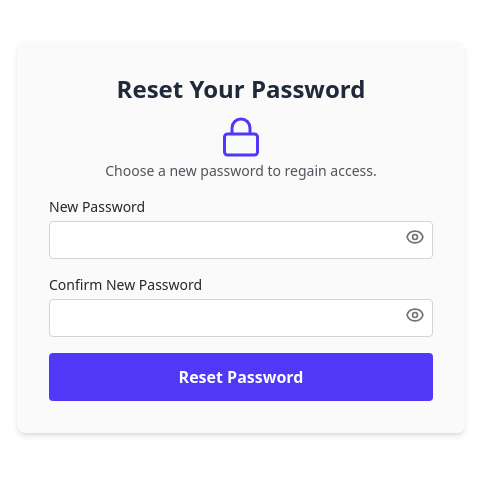
ResetPassword › successfully resets and redirects to login
Type "Password123!" into the password field labelled "New Password" at (241, 240), box [49, 221, 433, 259]
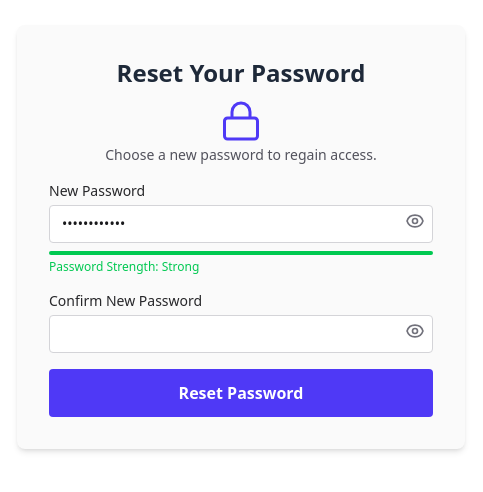
Type "Password123!" into the password field labelled "Confirm New Password" at (241, 334), box [49, 315, 433, 353]
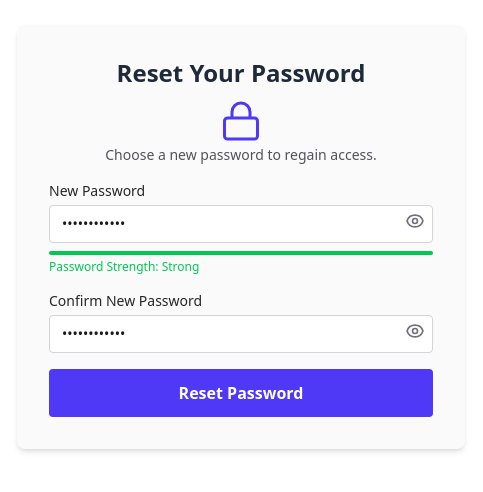
Click the button "Reset Password" at (241, 393), box [49, 369, 433, 417]
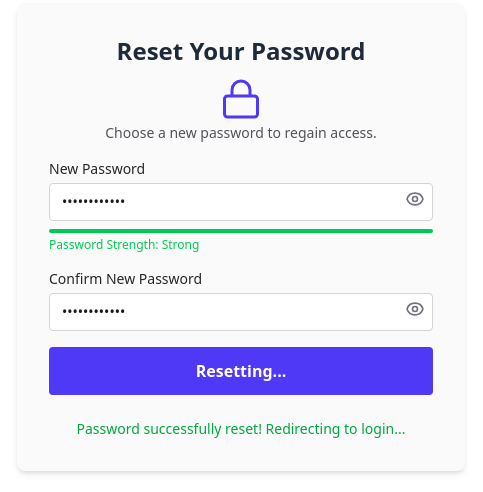
Expected: the text "Password successfully reset! Redirecting to login..." is shown, [49, 419, 433, 439]
